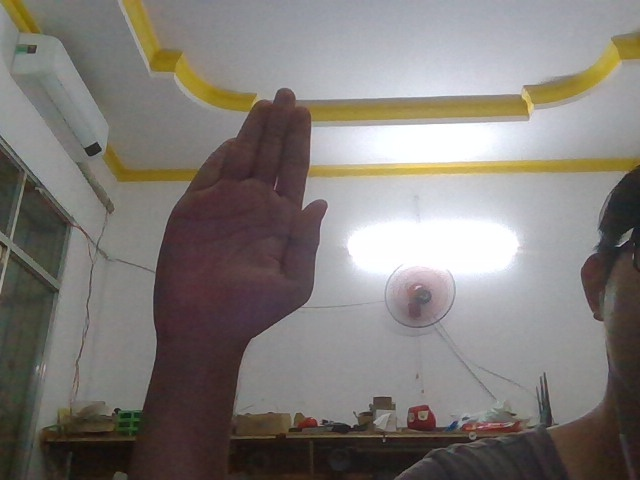stop: (147, 73, 340, 355)
